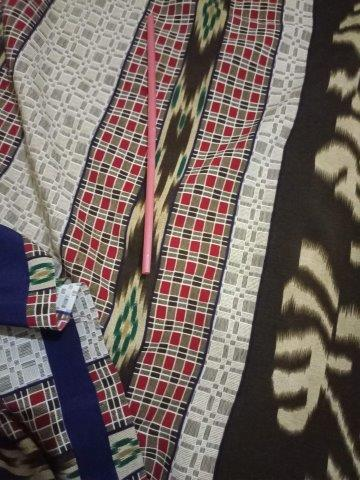sedotan: (142, 15, 156, 273)
